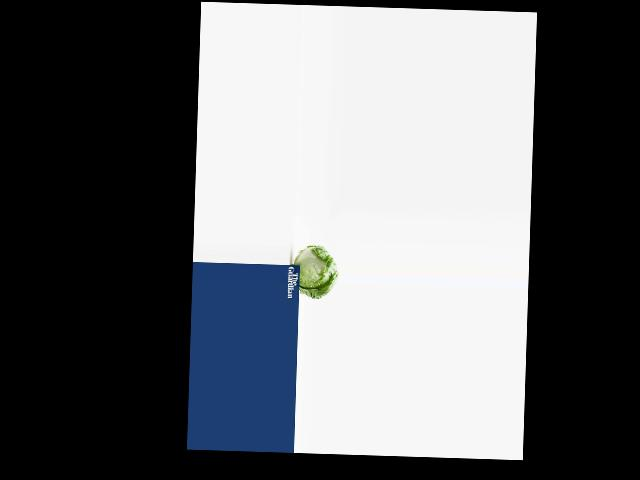lettuce: (292, 245, 341, 298)
